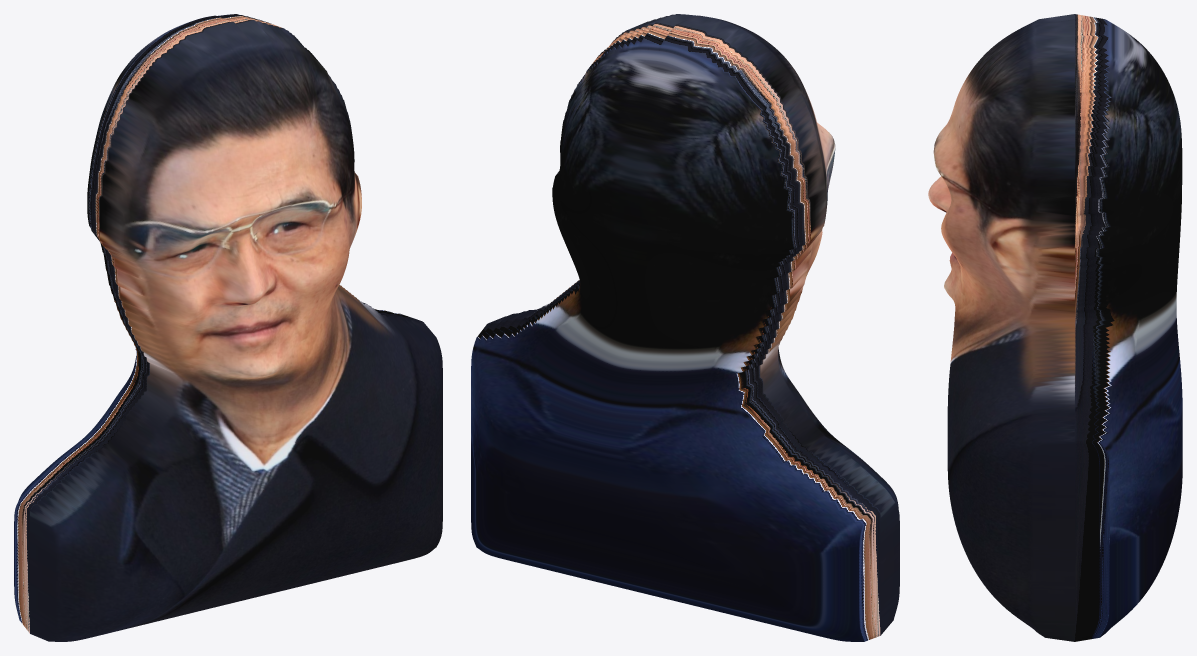
The picture shows the model from 3 angles, left to right: view 1: azimuth 30°, elevation 25°; view 2: azimuth 150°, elevation 25°; view 3: azimuth 270°, elevation 25°; orthographic projection. The views are drawn at different scales.
Size of the model in its own units: 1 by 1.37 by 0.6011.
1 material, 1 textured.
